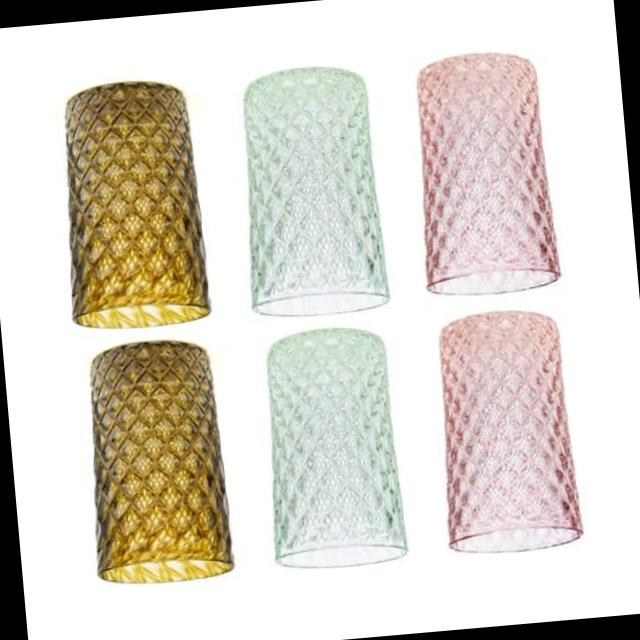glass: (245, 322, 427, 586), (424, 297, 596, 574), (396, 29, 568, 301), (40, 66, 212, 336), (70, 336, 244, 602), (227, 52, 390, 324)
